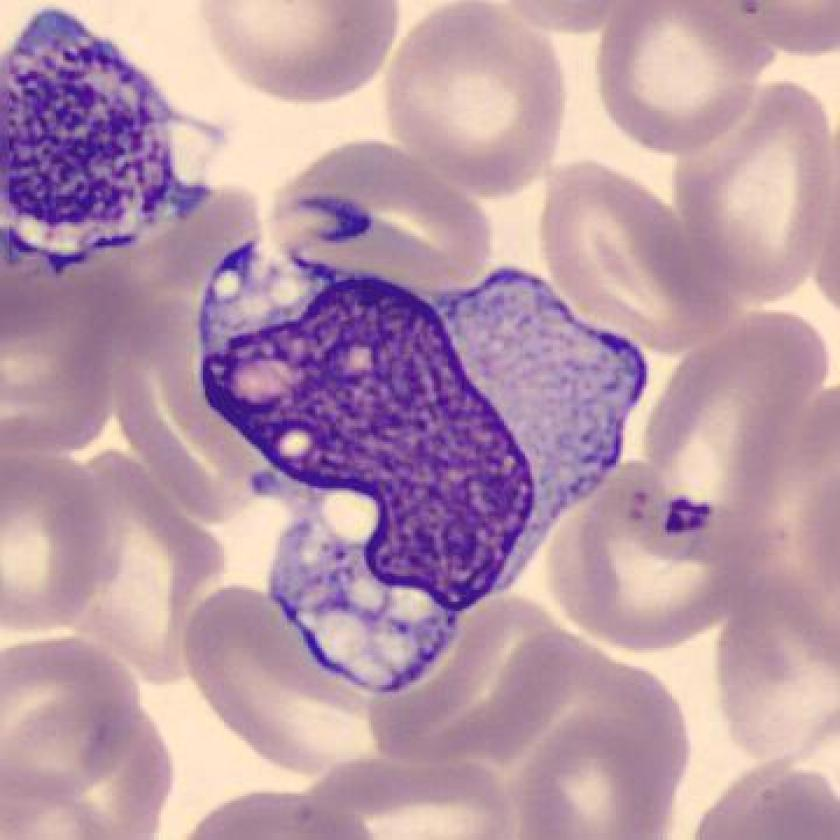monocyte: (174, 198, 666, 723)
